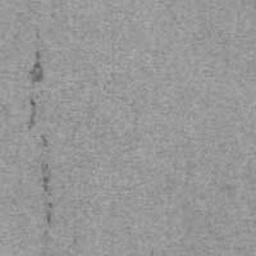Inclusion: (27, 50, 45, 87), (27, 97, 38, 132), (40, 161, 52, 192), (41, 133, 50, 148), (47, 200, 55, 209), (47, 211, 52, 223)
